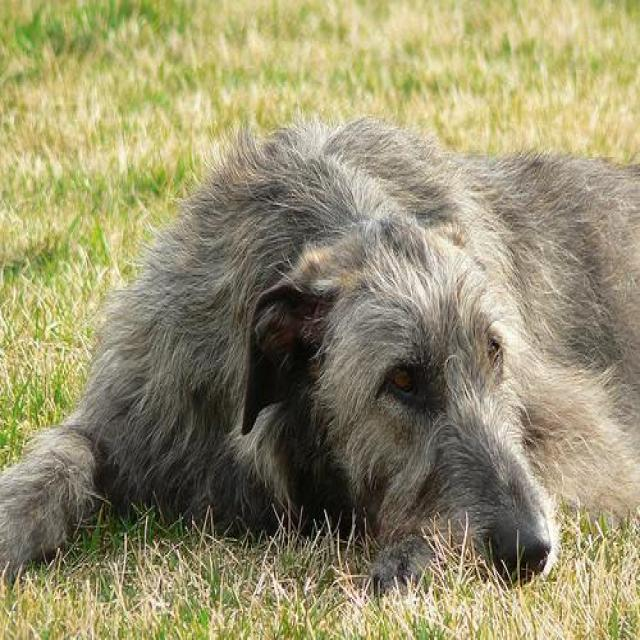irish_wolfhound: (0, 112, 639, 590)
